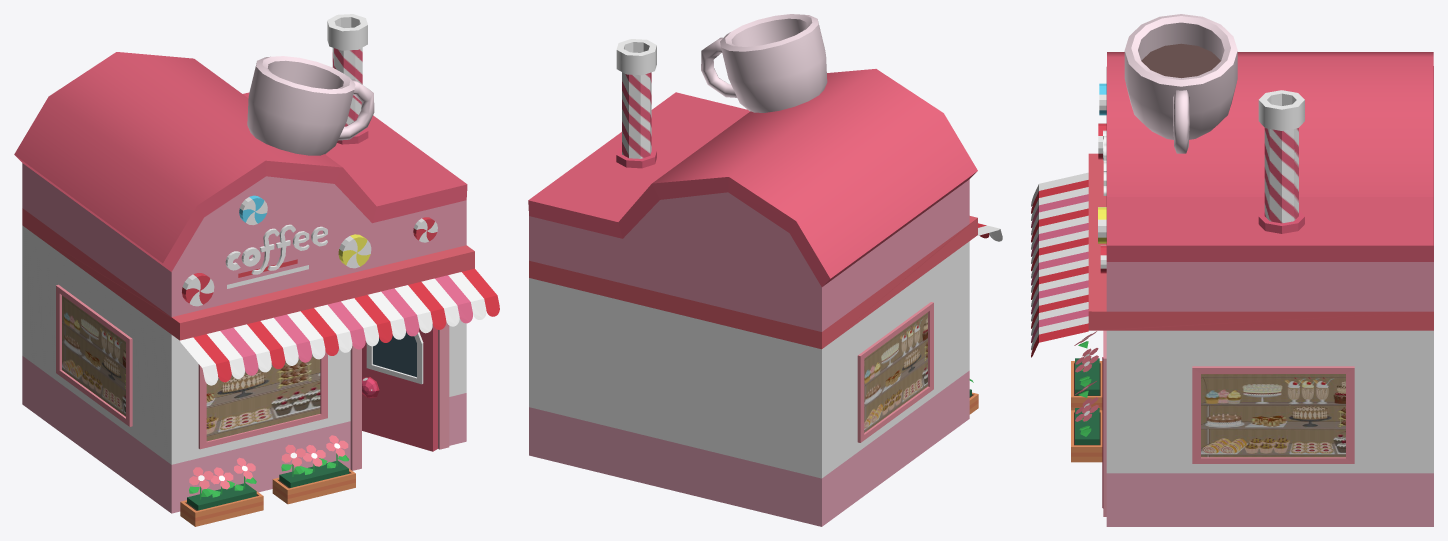
Rendered from coffee.FBX.
3 renders of one model, left to right at view 1: azimuth 30°, elevation 25°; view 2: azimuth 150°, elevation 25°; view 3: azimuth 270°, elevation 25°, orthographic. The views are drawn at different scales.
Visible parts, largest first — view 1: coffee; view 2: coffee; view 3: coffee.
Boxes of the visible parts, x1,y1,x2,y2 form: coffee: (14, 14, 499, 526); coffee: (528, 14, 1002, 526); coffee: (1031, 14, 1433, 526).
Bounding box in the file's own units: 179 × 217 × 186.
